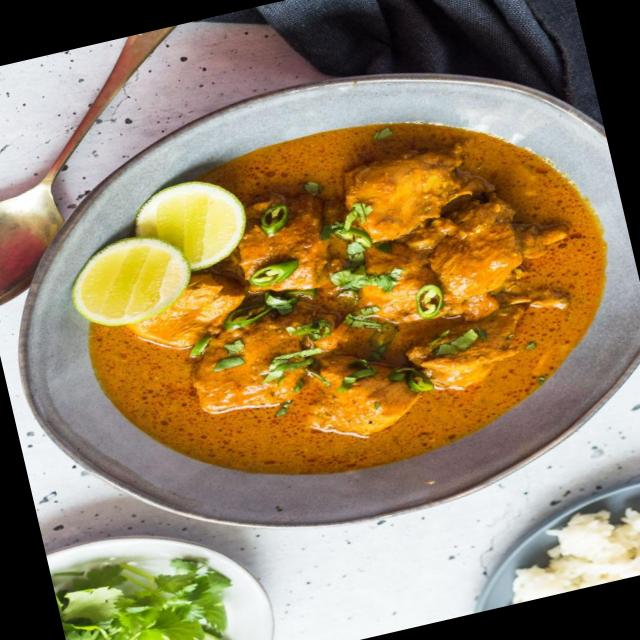chicken: (126, 82, 616, 487)
